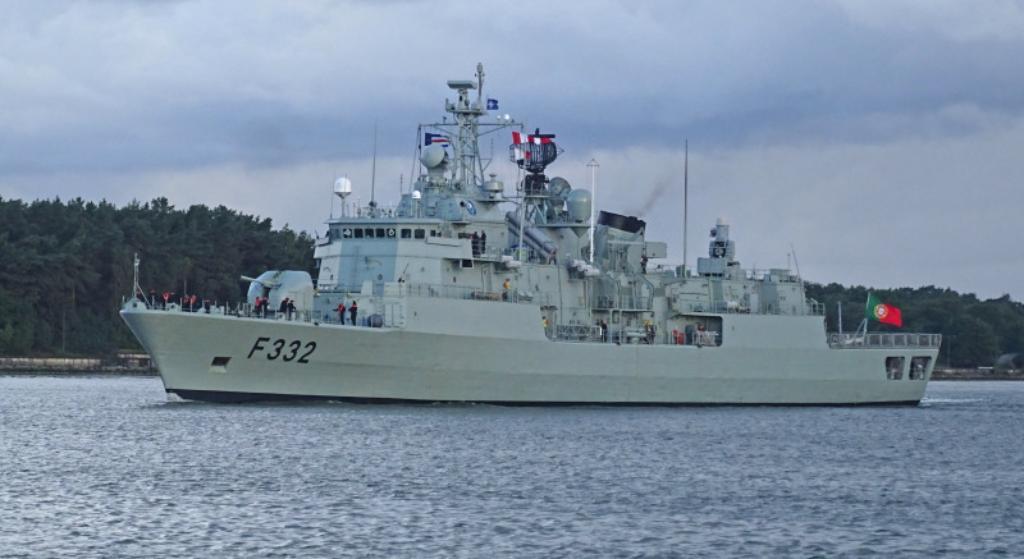Warship: (113, 63, 941, 409)
